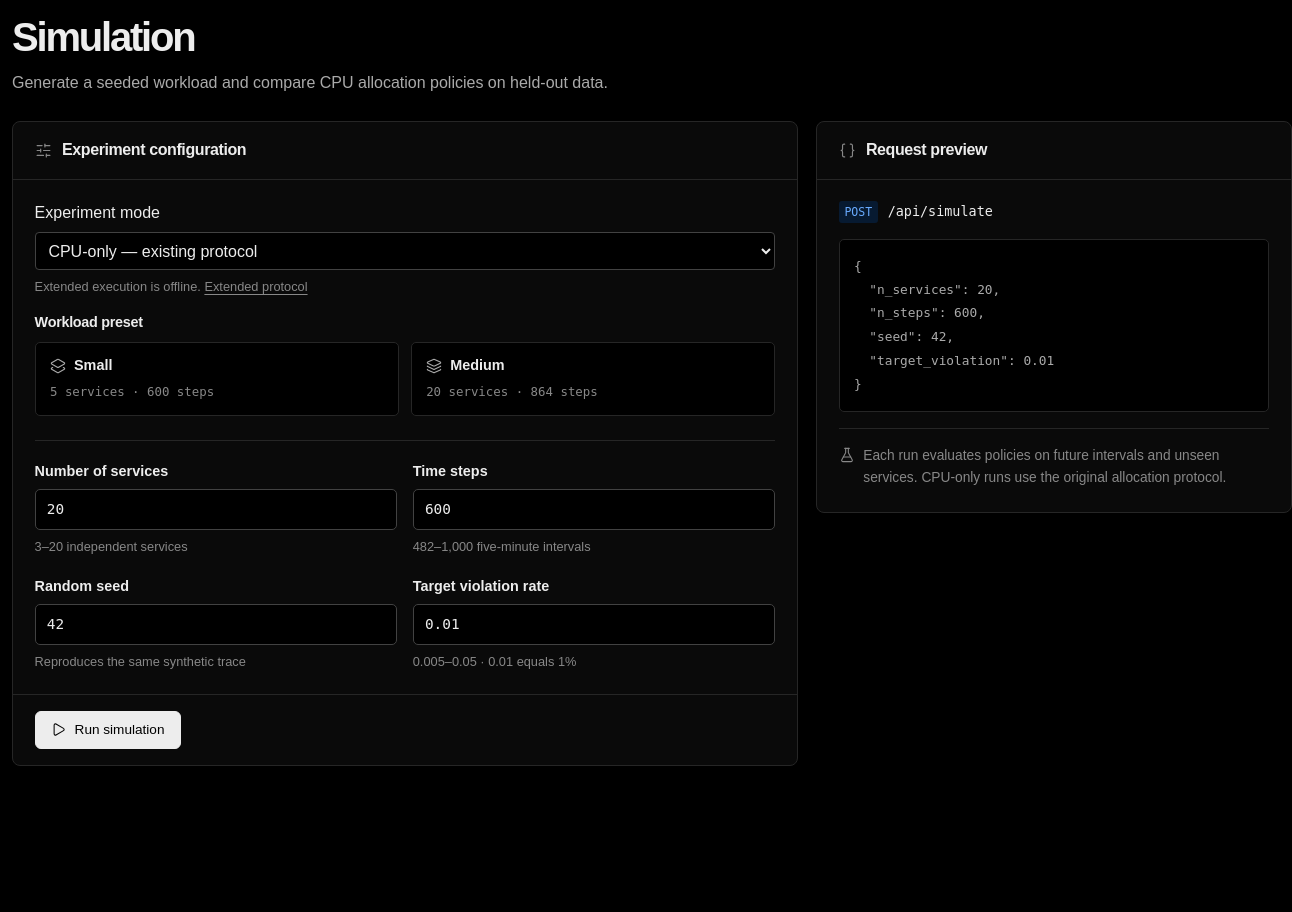
Scenario: SimulatePage › validates input fields against caps before submitting
Replace the text in the number field labelled "Number of services" with "9999" at (216, 510), box [35,489,397,530]
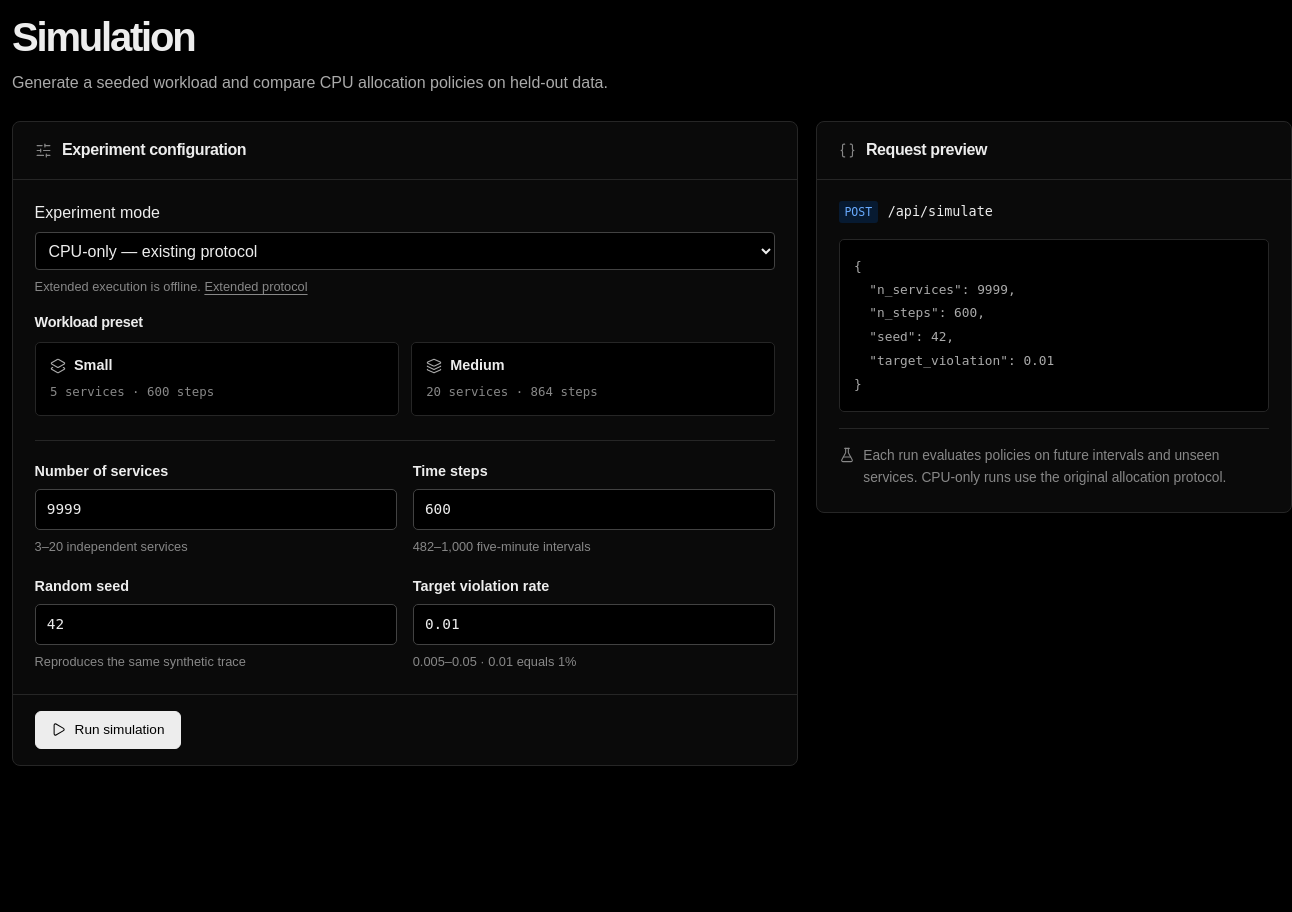
Click the button "Run simulation" at (108, 730), box [35,711,181,749]
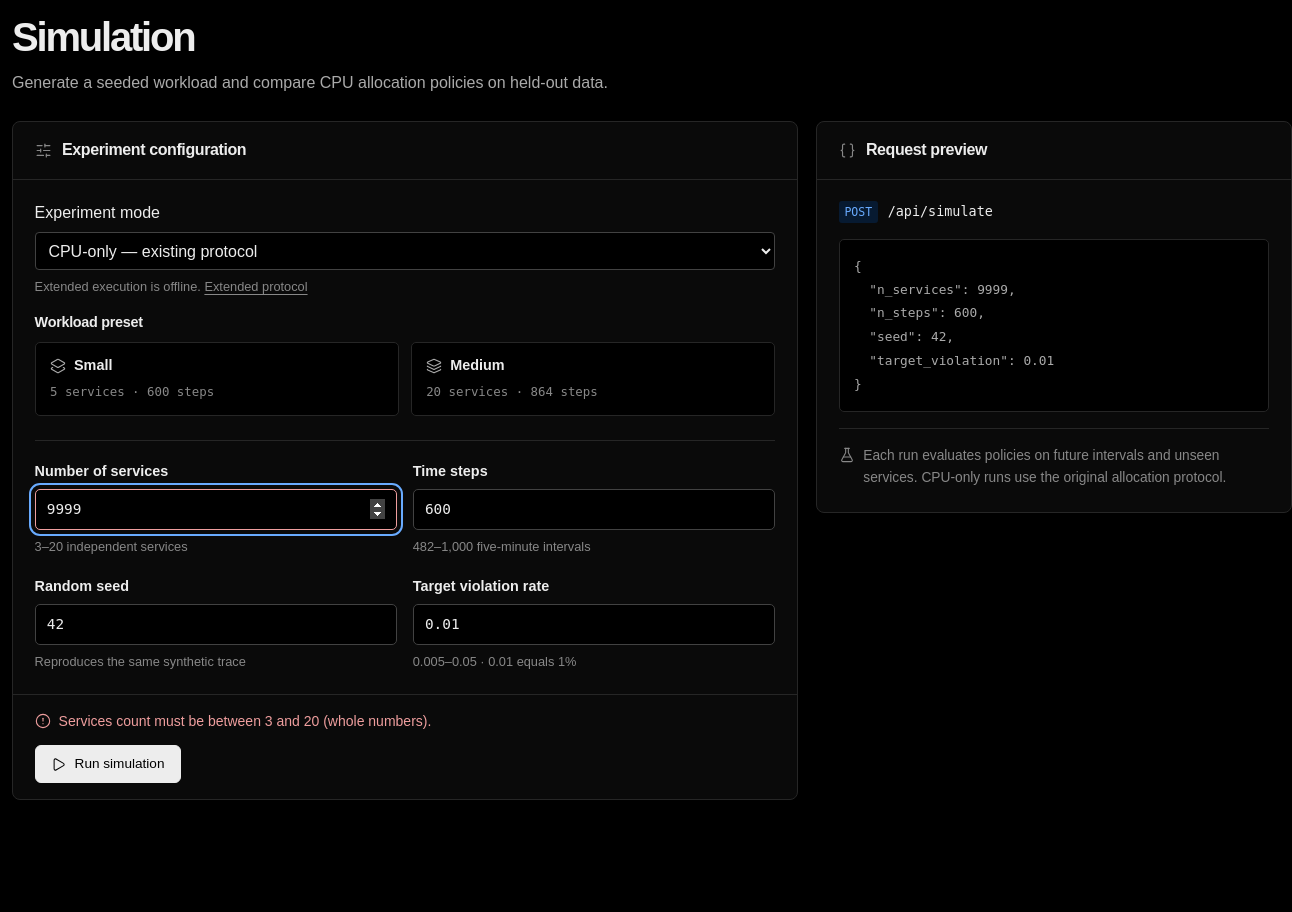
Result: the text "Services count must be between 3 and 20 (whole numbers)." is shown at [35,713,431,729]
Replace the text in the number field labelled "Number of services" with "3" at (216, 510), box [35,489,397,530]
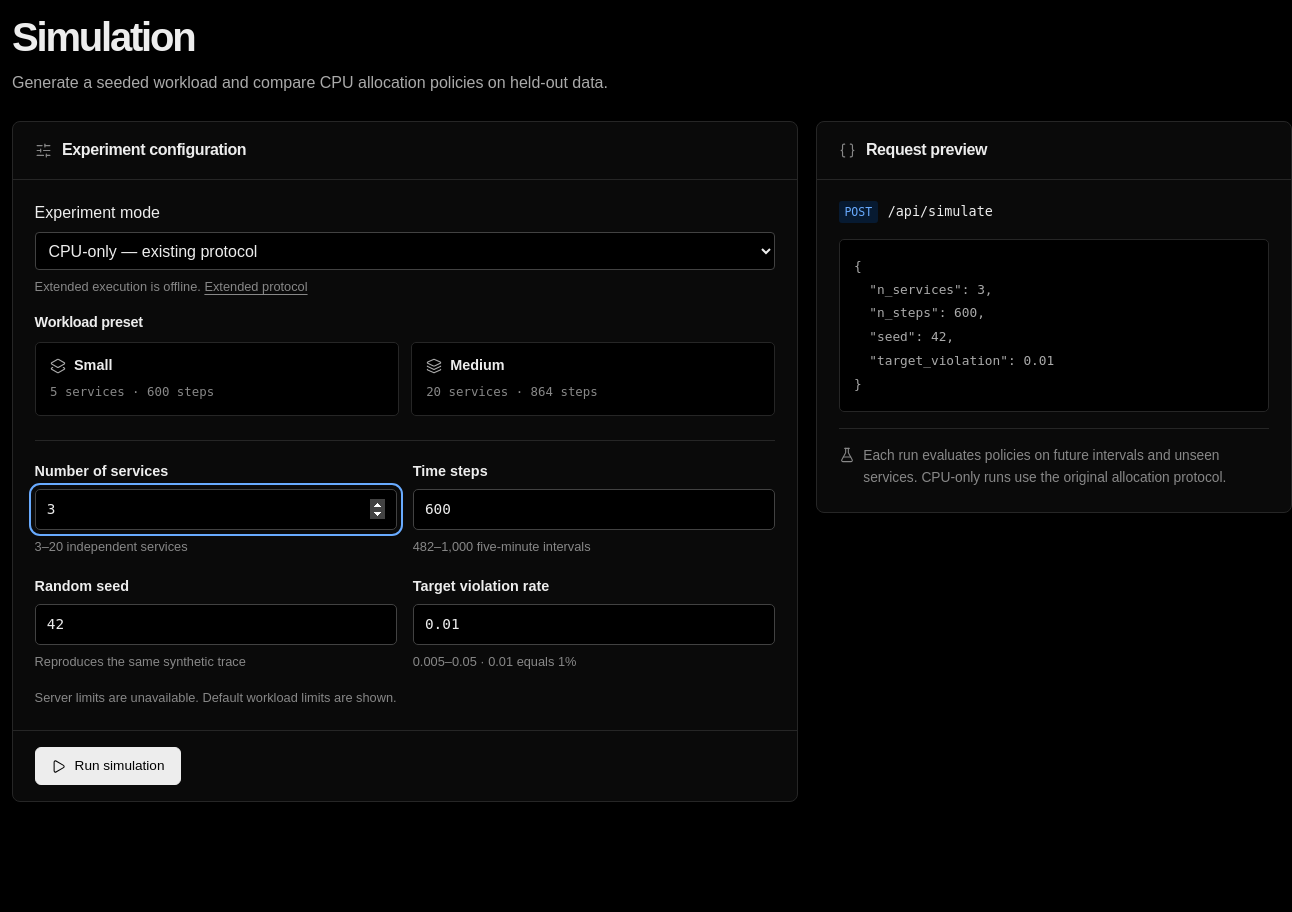
Replace the text in the number field labelled "Time steps" with "481" at (594, 510), box [413,489,775,530]
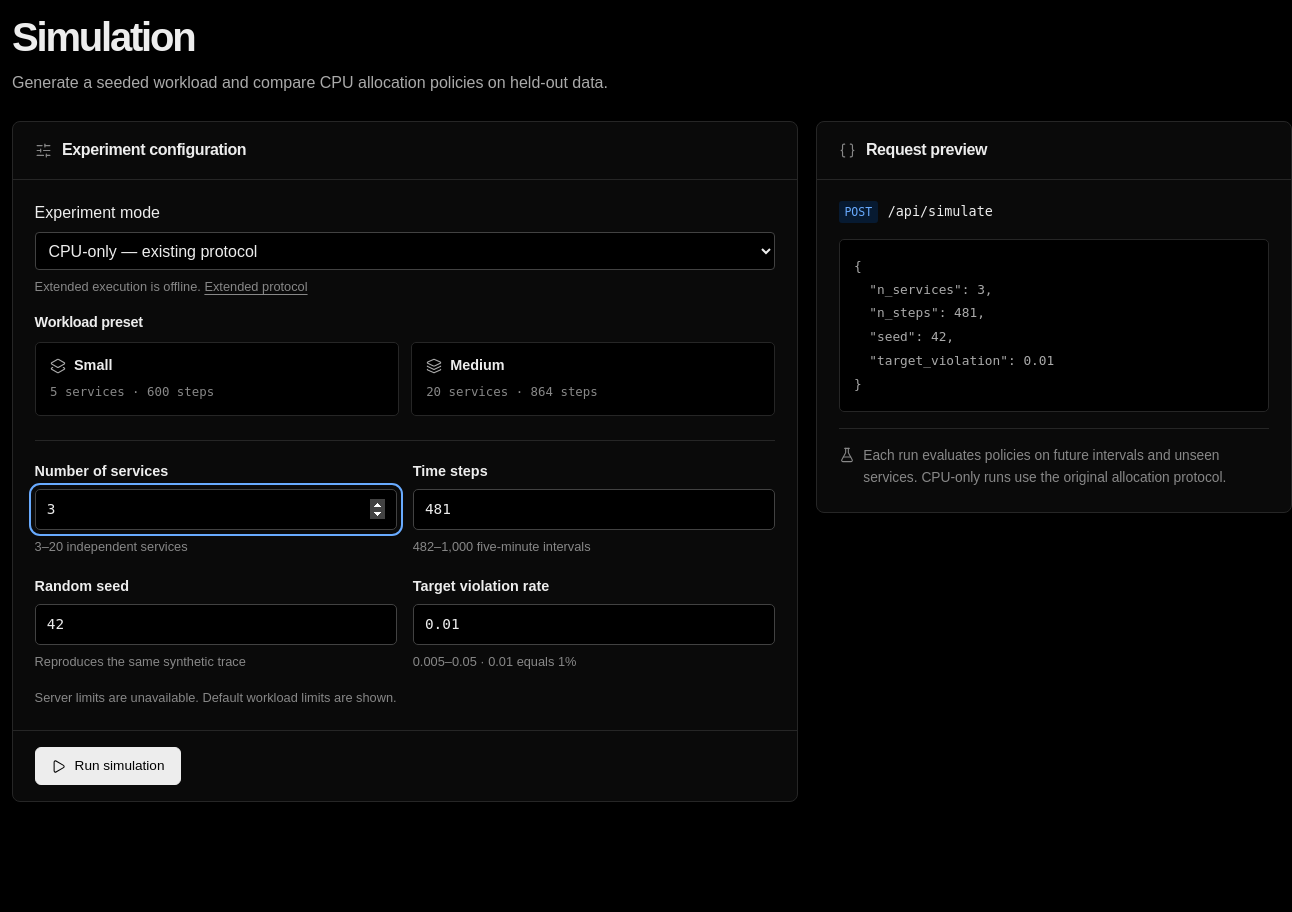
Click the button "Run simulation" at (108, 766), box [35,747,181,785]
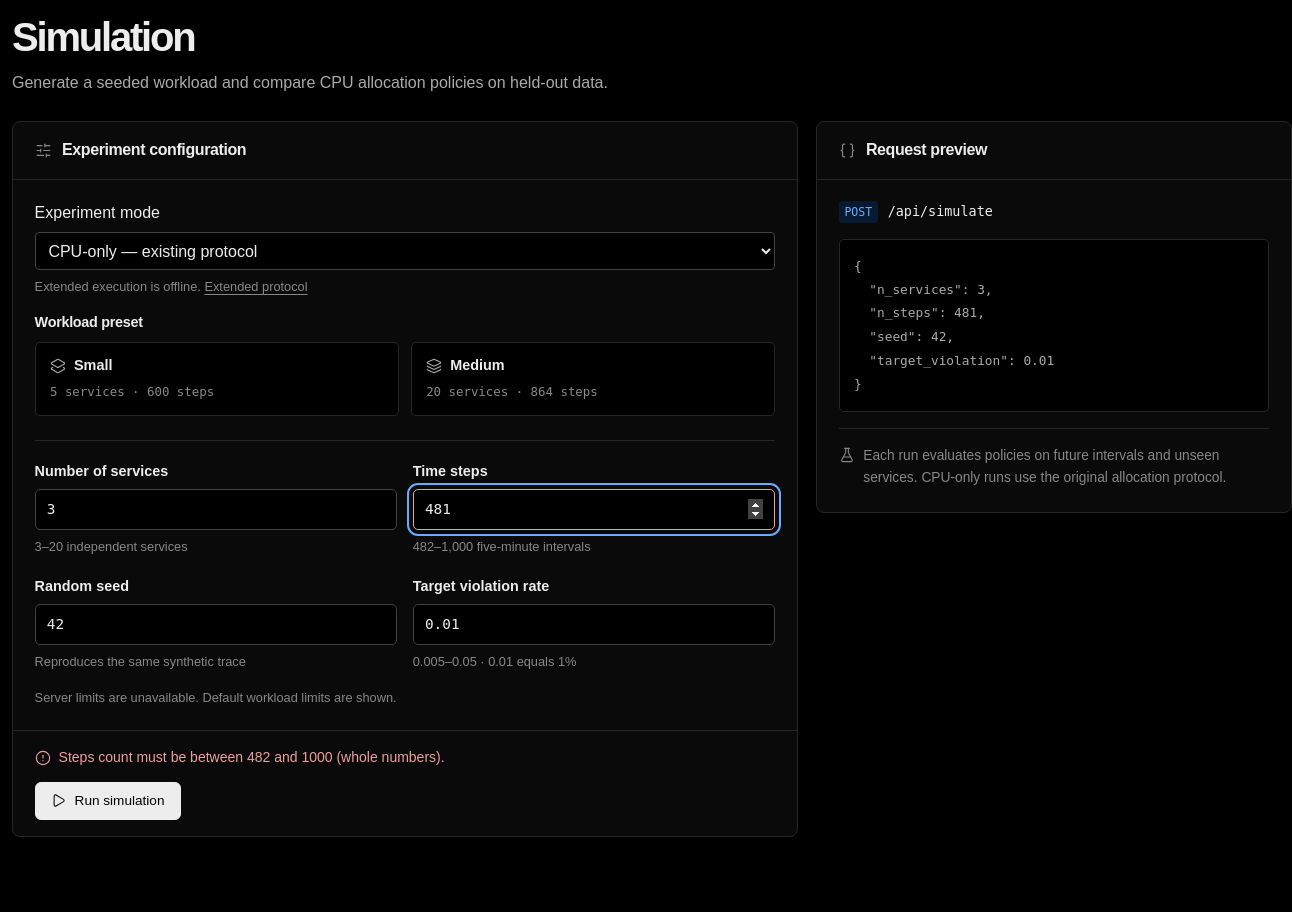
Result: the text "Steps count must be between 482 and 1000 (whole numbers)." is shown at [35,749,445,766]
